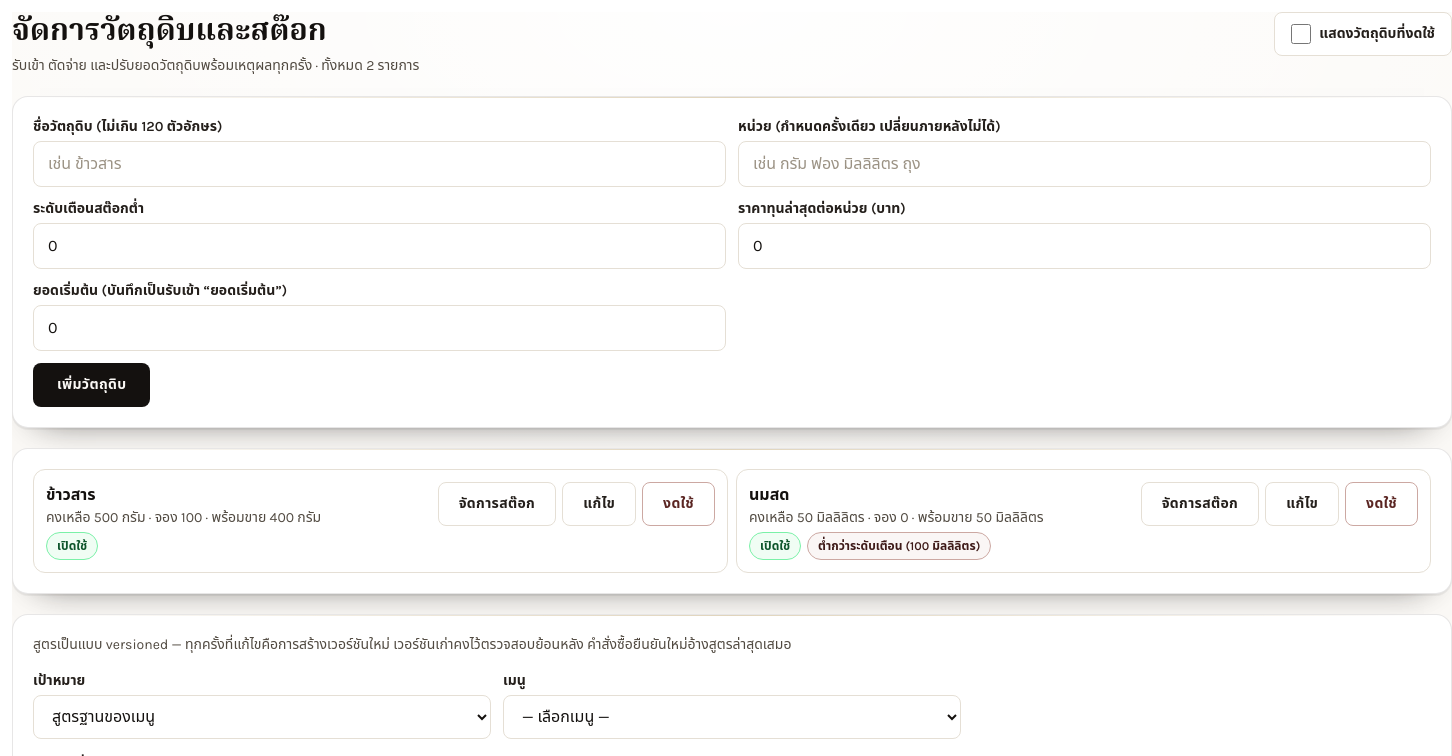
Test: หน้าจัดการวัตถุดิบและสต๊อก (Owner/Admin, Ticket 07) › เพิ่มวัตถุดิบสำเร็จแสดงข้อความสำเร็จ
Expected: the text "ข้าวสาร" is shown, [46,484,96,504]
Type "ข้าวสาร" into the field labelled "ชื่อวัตถุดิบ (ไม่เกิน 120 ตัวอักษร)" at (380, 164), box [33,140,726,186]
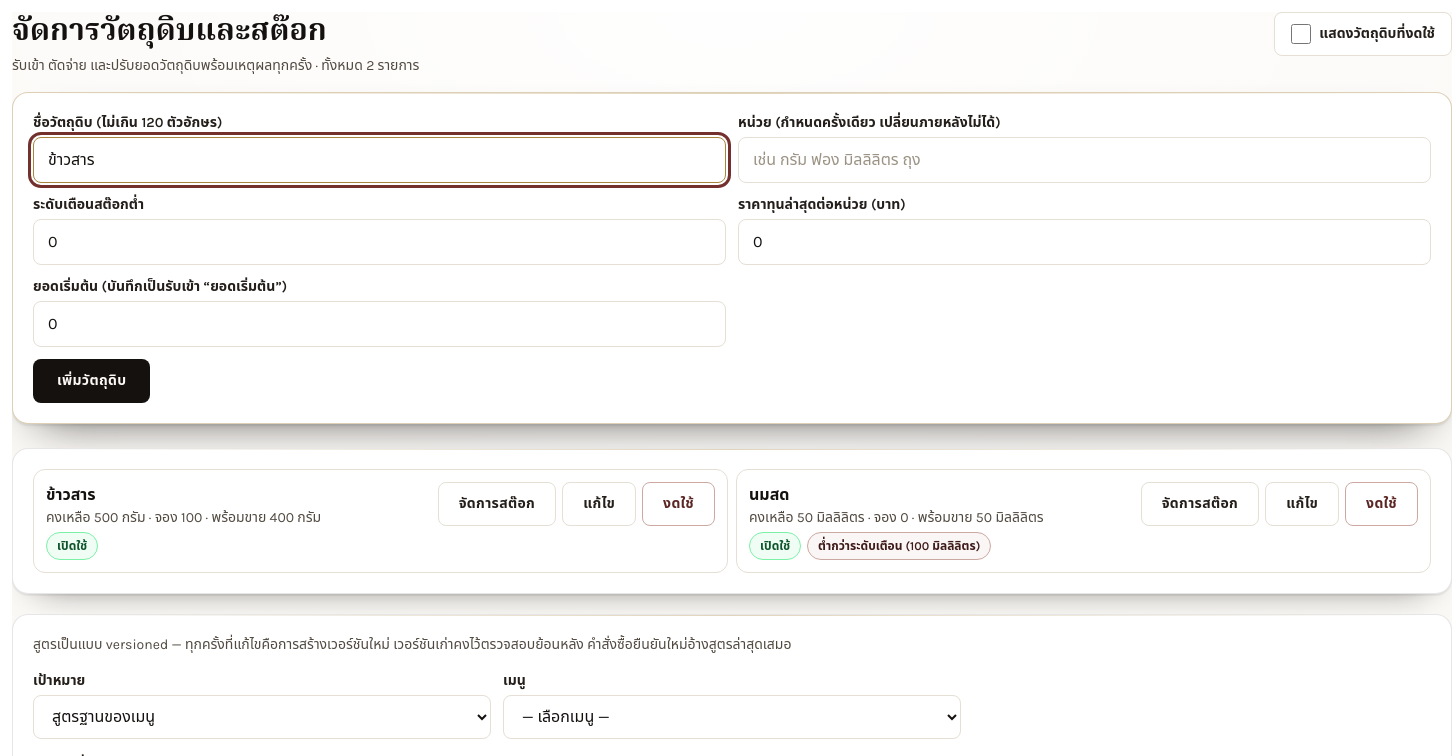
Type "กรัม" into the field labelled "หน่วย (กำหนดครั้งเดียว เปลี่ยนภายหลังไม่ได้)" at (1084, 160), box [738,136,1431,182]
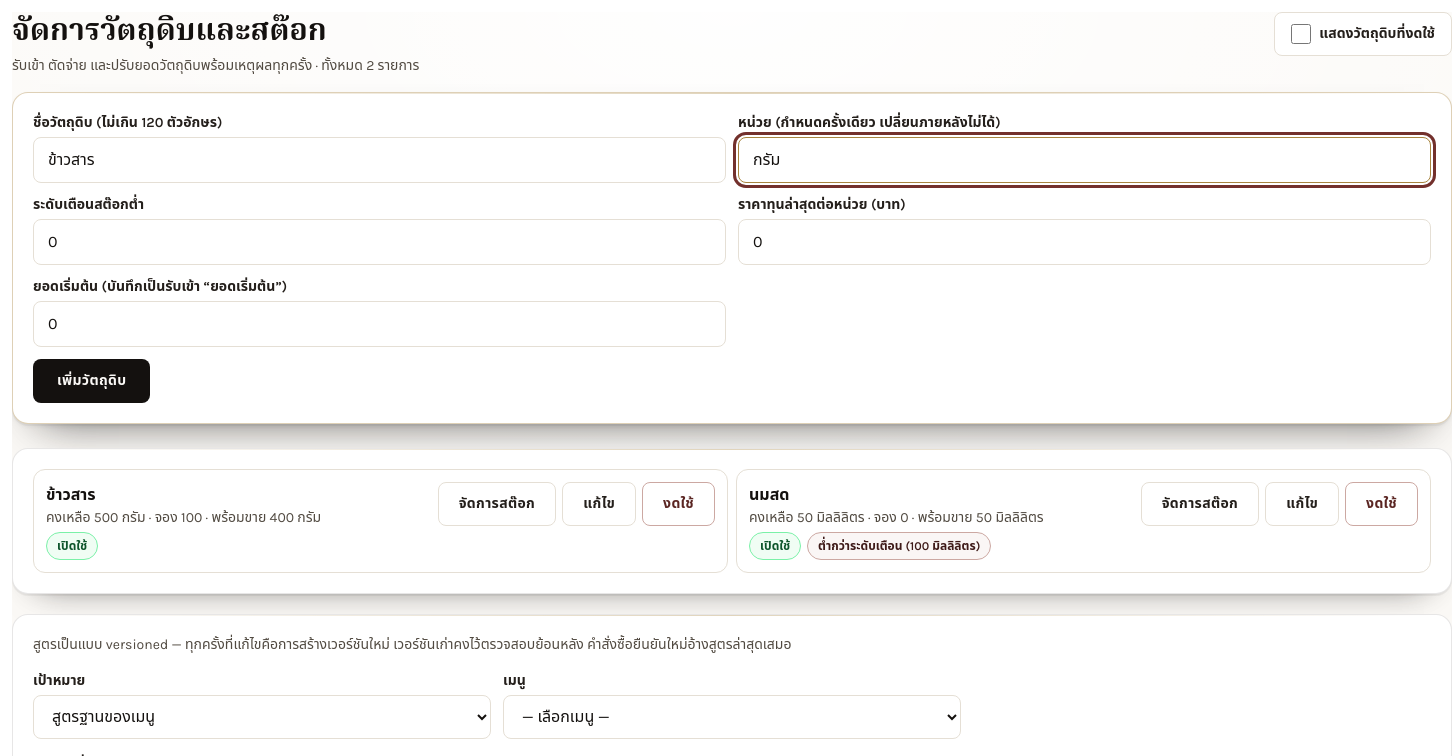
Click the button "เพิ่มวัตถุดิบ" at (92, 380), box [33,358,150,402]
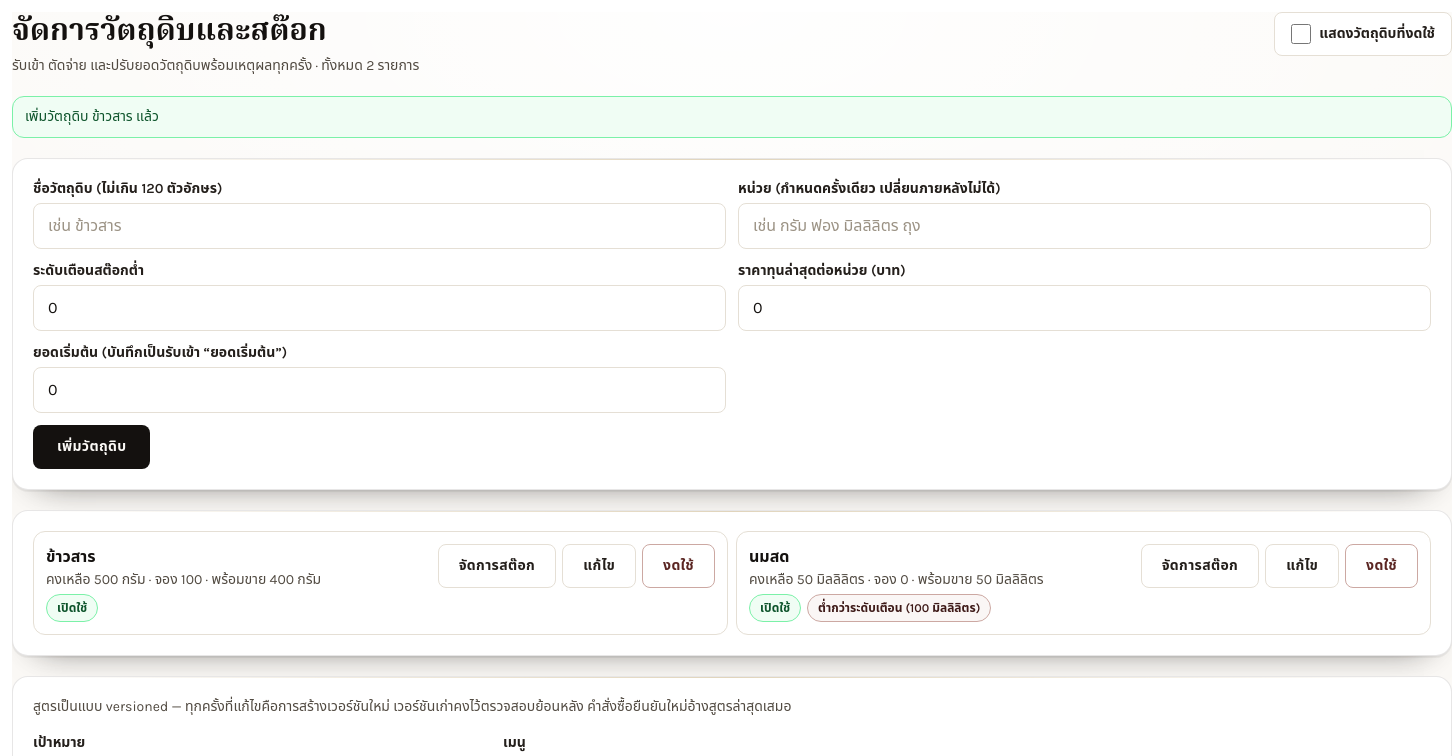
Now the message reads "เพิ่มวัตถุดิบ ข้าวสาร แล้ว", box [25,108,159,124]
